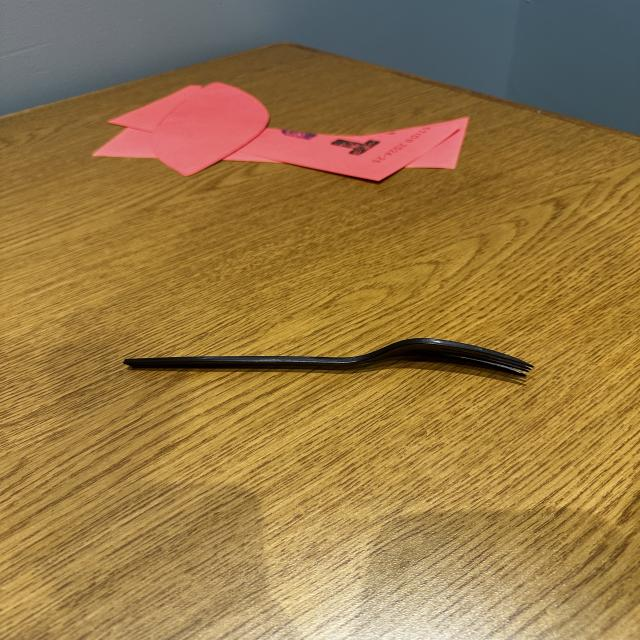fork: (102, 310, 588, 406)
